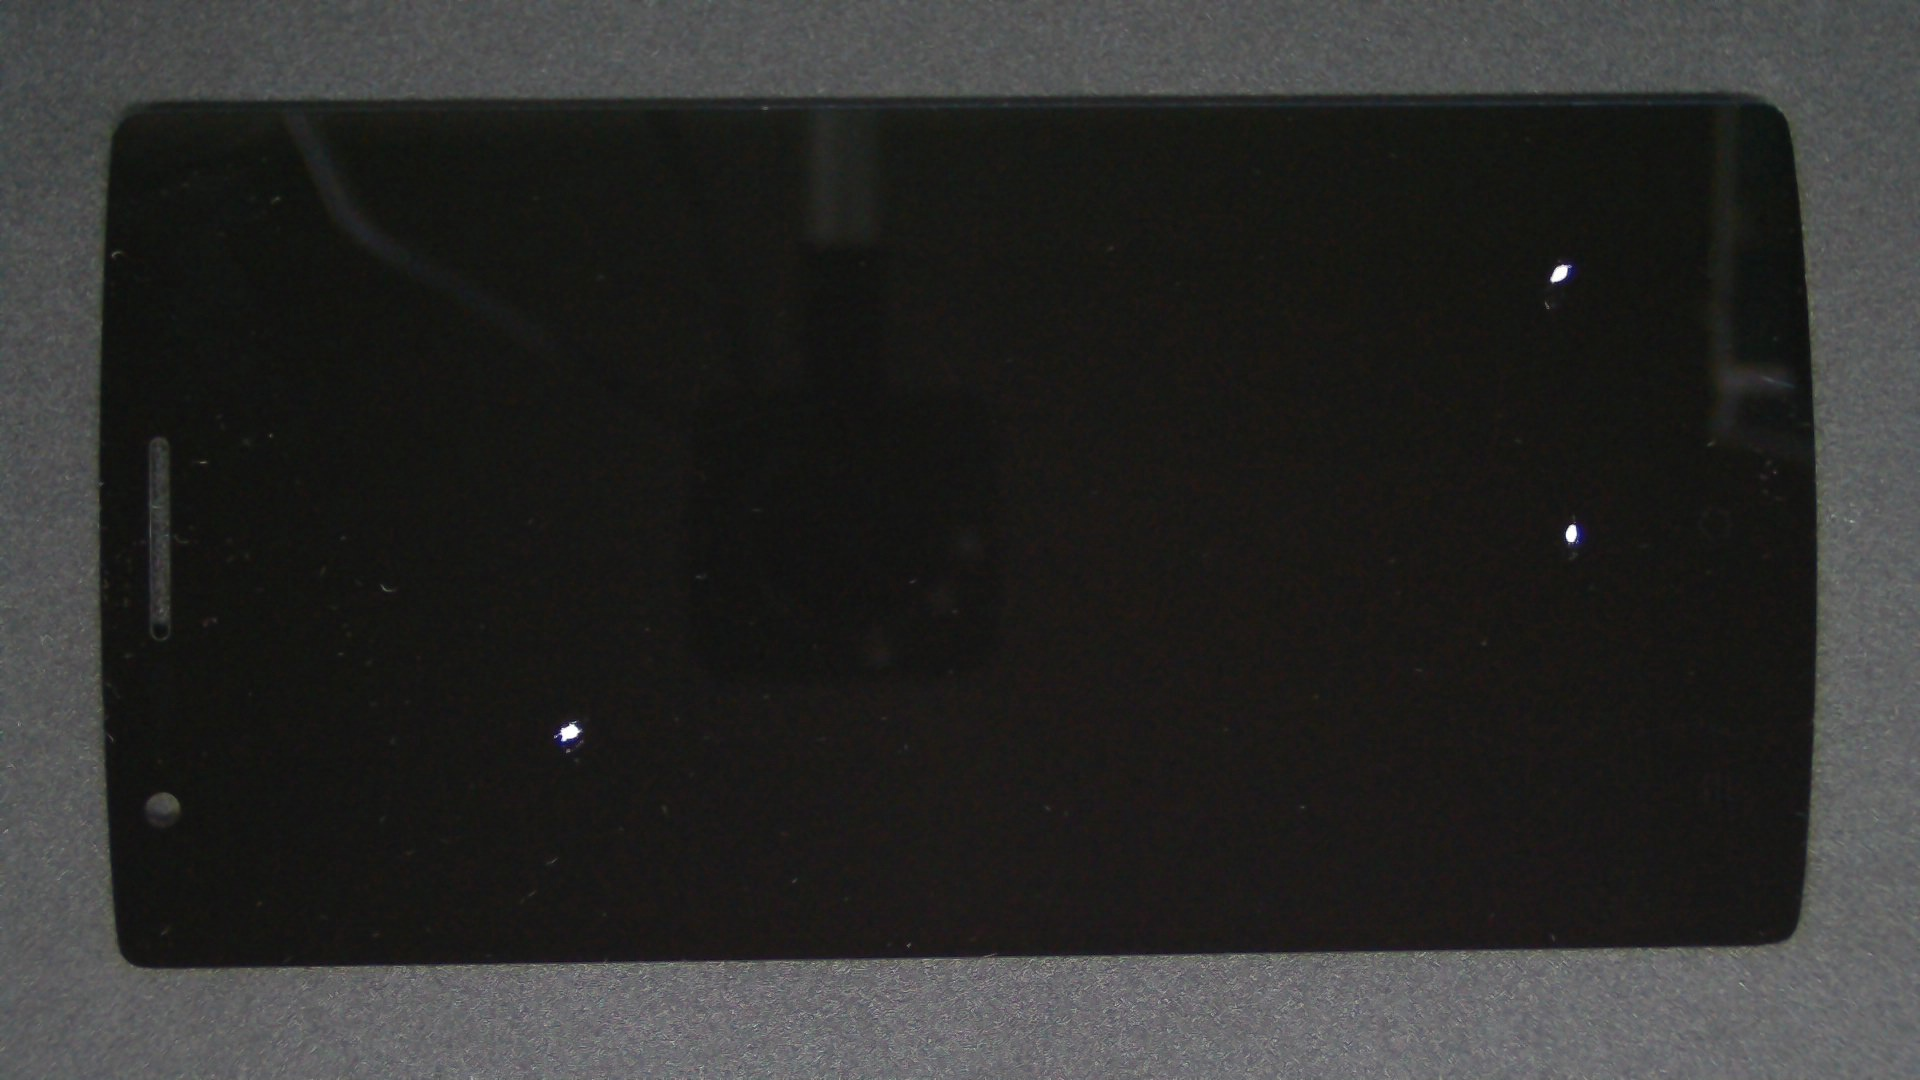oil: (786, 261, 1920, 786), (289, 360, 864, 1080), (291, 369, 873, 1080), (284, 373, 849, 1080), (779, 131, 1920, 397)
